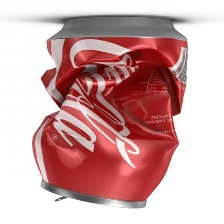can: (29, 12, 190, 211)
